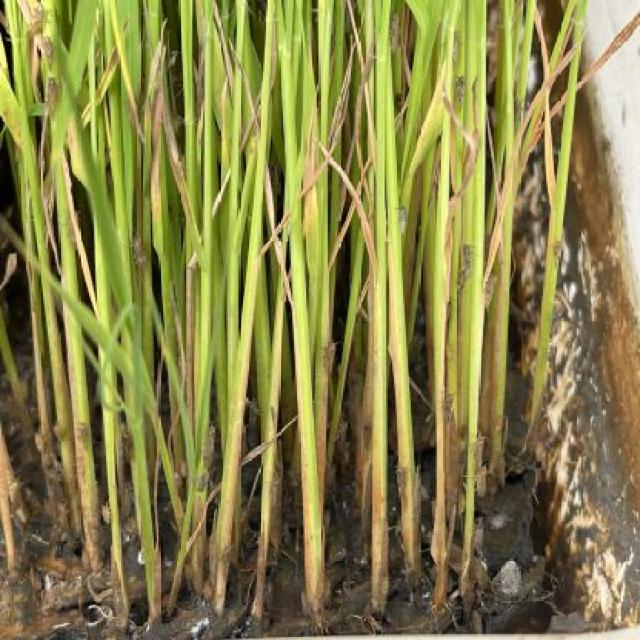wereng pada daun padi: (187, 413, 223, 503), (313, 332, 346, 389), (455, 229, 476, 302), (392, 192, 418, 250), (38, 78, 72, 111), (22, 0, 49, 40), (35, 27, 60, 70), (453, 63, 470, 121)
